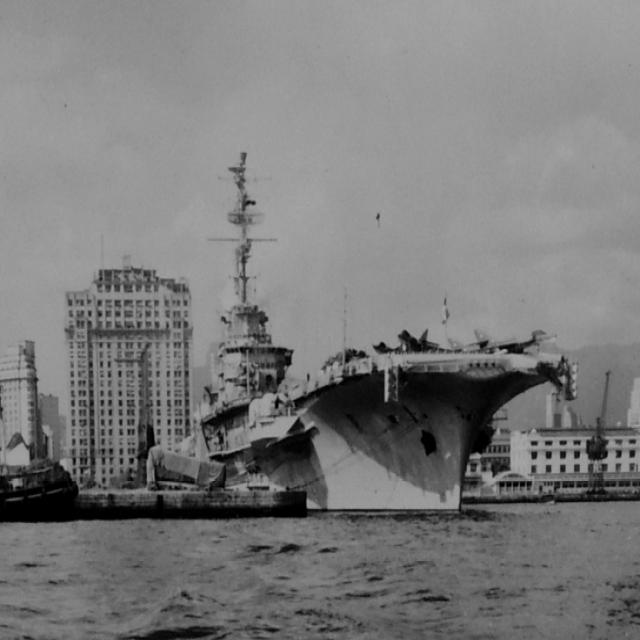Portanaves: (99, 147, 577, 526)
